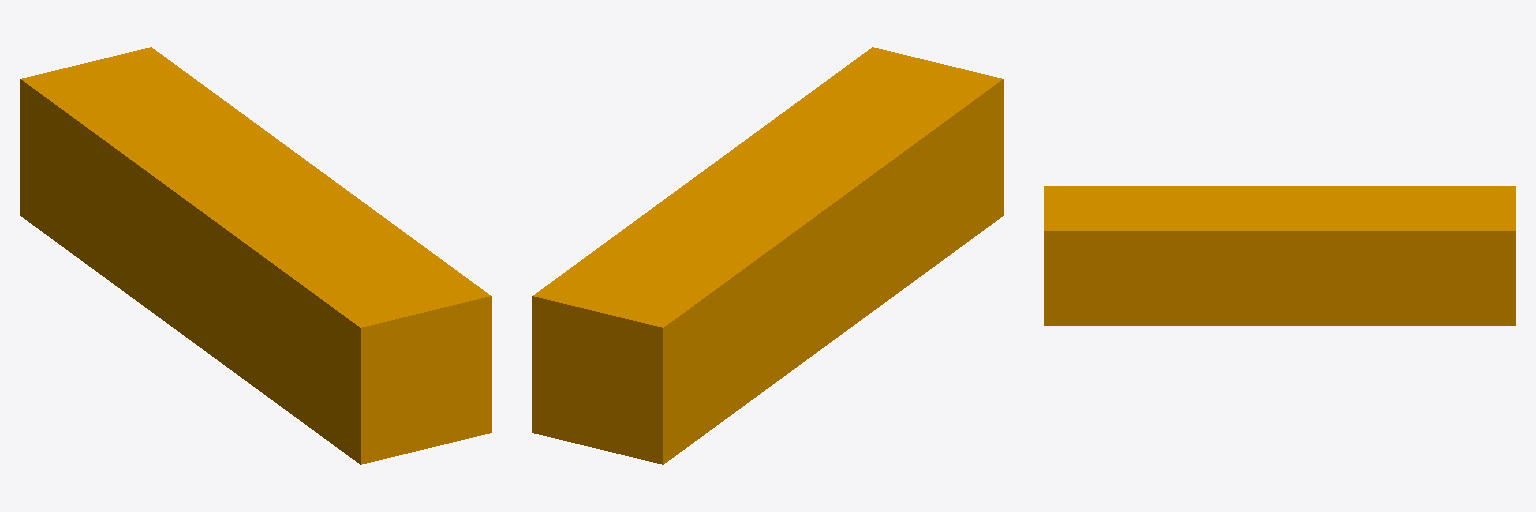
URDF robot description (block_2):
<?xml version="1.0" ?> 
<robot name="block_2">
   <link name="my_box">

     <inertial>
       <mass value="0.4" />
       <inertia  ixx="0.1" ixy="0.0"  ixz="0.0"  iyy="0.1"  iyz="0.0"  izz="0.1" />
     </inertial>

     <visual>
       <geometry>
         <box size="0.04 0.18 0.04" />
       </geometry>
     </visual>

     <collision>
       <geometry>
         <box size="0.04 0.18 0.04" />
       </geometry>
       <surface>
         <friction>
           <ode>
             <mu>0.8</mu>
             <mu2>0.8</mu2>
	   </ode>
         </friction>
        </surface>
      </collision>

   </link>
   <gazebo reference="my_box">
     <material>Gazebo/Blue</material>
   </gazebo>
 </robot>

--- Render facts (derived) ---
3 views of the same robot in one strip: view 1: azimuth 30°, elevation 25°; view 2: azimuth 150°, elevation 25°; view 3: azimuth 270°, elevation 25° (orthographic).
Model block_2 with 1 links and 0 joints (none), rooted at my_box, posed every joint at zero.
Links seen in each view (by area): view 1: my_box; view 2: my_box; view 3: my_box.
Link boxes in pixels (x1,y1,x2,y2): my_box: (20, 47, 491, 464); my_box: (532, 47, 1003, 464); my_box: (1044, 186, 1515, 325).
Bounding box of the posed robot: 0.04 × 0.18 × 0.04 m (x, y, z).
Geometry: primitives only (box / cylinder / sphere), no mesh files.